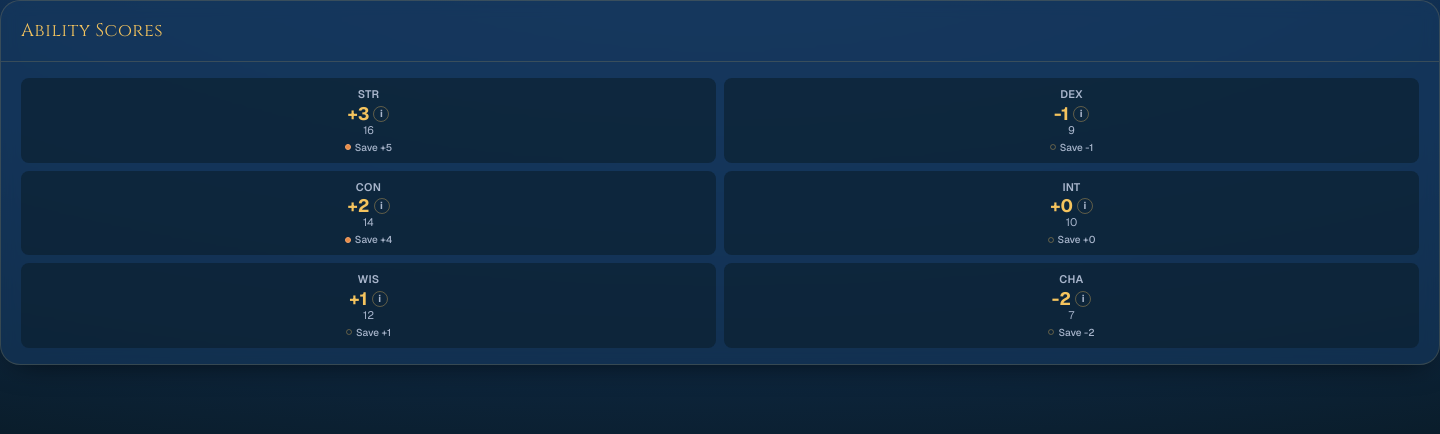
Test: AbilityScoresPanel › clicking a tile rolls an ability check: d20 + the modifier, no proficiency
Click the text "STR" at (369, 94), box [358,86,379,102]
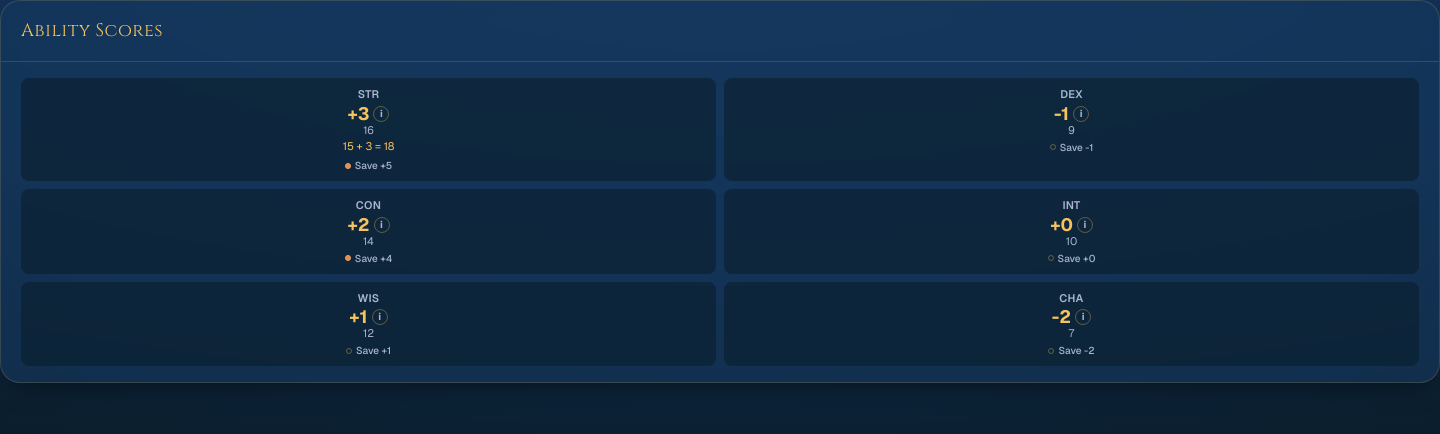
Now the text "15 + 3 = 18" is shown, box [343,138,394,152]
